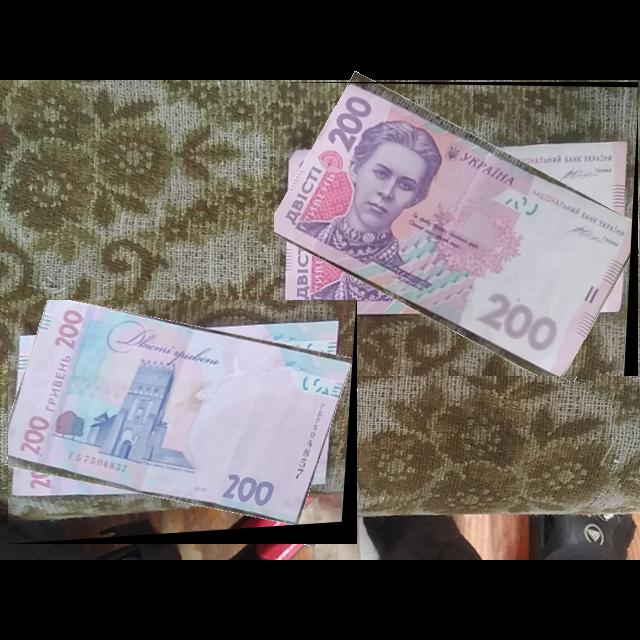200uah: (274, 83, 634, 377), (8, 300, 354, 530)
